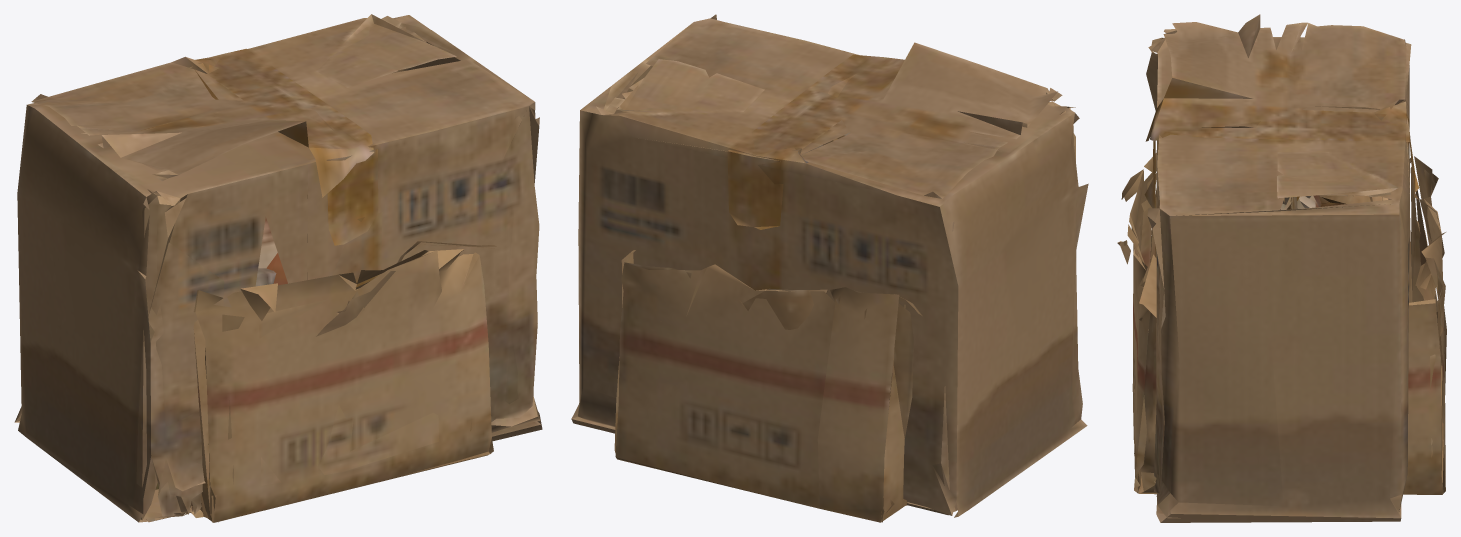
The model's file is shelf-junk-atlas.glb.
The picture shows the model from 3 angles, left to right: view 1: azimuth 30°, elevation 25°; view 2: azimuth 150°, elevation 25°; view 3: azimuth 270°, elevation 25°; orthographic projection. The views are drawn at different scales.
Visible parts, largest first — view 1: P14, P15; view 2: P14, P15; view 3: P14, P15, P16.
Part boxes in pixels (bbox=[...]): P14: bbox=[14, 14, 542, 522]; P15: bbox=[193, 241, 496, 522]; P14: bbox=[571, 14, 1088, 517]; P15: bbox=[614, 250, 922, 522]; P14: bbox=[1144, 14, 1418, 522]; P15: bbox=[1117, 153, 1446, 494]; P16: bbox=[1320, 195, 1391, 203].
Bounding box in the file's own units: 0.55 × 0.4708 × 0.4111.
Materials: 1 (1 with a texture image).
